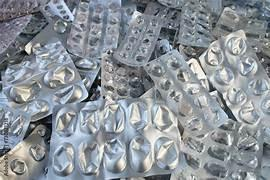pill_Strip: (146, 50, 261, 177), (48, 99, 180, 179), (200, 31, 268, 175), (3, 41, 87, 120), (200, 30, 269, 126), (145, 50, 225, 126), (67, 0, 120, 58), (0, 125, 49, 179), (114, 14, 161, 65), (213, 7, 267, 50), (101, 53, 144, 99), (176, 0, 212, 46), (0, 102, 30, 150), (0, 15, 30, 53), (70, 54, 100, 90), (144, 2, 180, 28), (118, 2, 137, 43), (0, 0, 37, 20), (187, 58, 209, 90), (40, 0, 73, 21), (158, 0, 184, 8)
